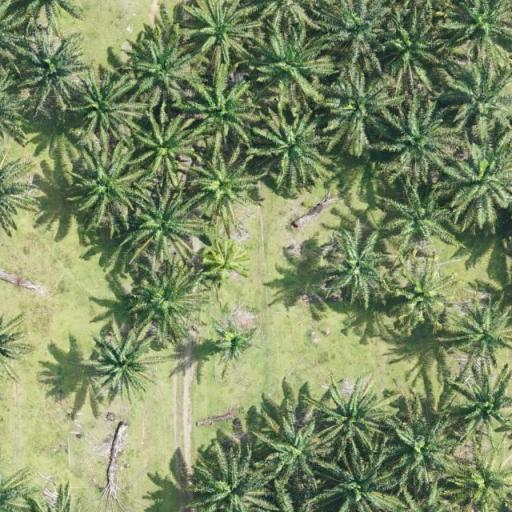Ganoderma: (206, 245, 244, 280), (218, 327, 253, 360)
